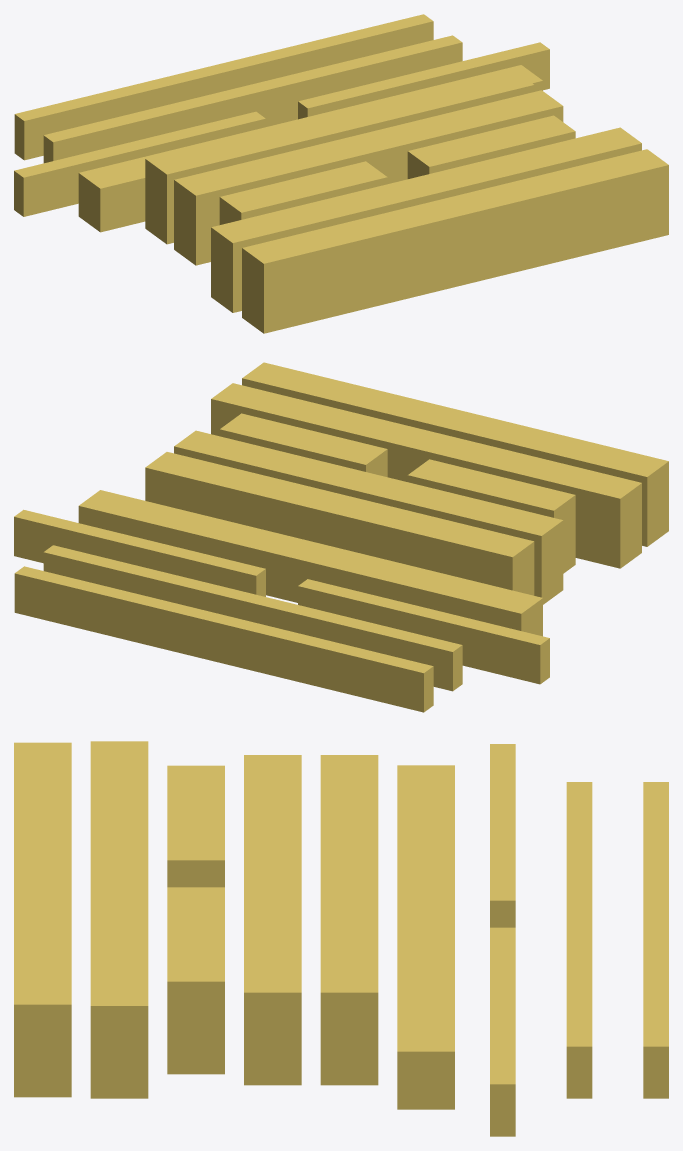
File: bed3.glb
3 renders of one model, top to bottom at view 1: azimuth 30°, elevation 25°; view 2: azimuth 150°, elevation 25°; view 3: azimuth 270°, elevation 25°, orthographic. The views are drawn at different scales.
Parts seen in each view (by area): view 1: girder2.2, girder2.3, beam1.8, beam2.8, guide1.3, guide2.3, girder1.1, girder1.2, girder2.1, pillar2.3, pillar1.3, leg2.3 (+16 smaller); view 2: board2.2, girder2.3, girder2.2, beam2.8, beam1.8, guide2.3, guide1.3, guide2.1, guide2.2, pillar1.3, pillar2.3, leg2.3 (+12 smaller); view 3: board2.2, girder2.3, girder2.2, beam2.8, beam1.8, guide1.3, guide2.3, leg2.3, leg2.4, pillar1.3, pillar2.3, girder1.3 (+26 smaller).
Part boxes in pixels (x1=…): girder2.2: x1=242, y1=149, x2=668, y2=281; girder2.3: x1=211, y1=127, x2=641, y2=260; beam1.8: x1=174, y1=90, x2=563, y2=204; beam2.8: x1=145, y1=69, x2=534, y2=182; guide1.3: x1=43, y1=35, x2=462, y2=155; guide2.3: x1=14, y1=14, x2=433, y2=134; girder1.1: x1=242, y1=217, x2=668, y2=333; girder1.2: x1=242, y1=200, x2=668, y2=316; girder2.1: x1=242, y1=182, x2=668, y2=298; pillar2.3: x1=14, y1=111, x2=265, y2=190; pillar1.3: x1=298, y1=42, x2=549, y2=117; leg2.3: x1=219, y1=161, x2=387, y2=222; board2.2: x1=78, y1=490, x2=542, y2=622; girder2.3: x1=211, y1=383, x2=641, y2=516; girder2.2: x1=242, y1=362, x2=668, y2=494; beam2.8: x1=145, y1=452, x2=534, y2=565; beam1.8: x1=174, y1=430, x2=563, y2=544; guide2.3: x1=14, y1=566, x2=433, y2=686; guide1.3: x1=43, y1=545, x2=462, y2=664; guide2.1: x1=14, y1=600, x2=433, y2=712; guide2.2: x1=14, y1=586, x2=433, y2=699; pillar1.3: x1=14, y1=509, x2=265, y2=588; pillar2.3: x1=298, y1=579, x2=549, y2=657; leg2.3: x1=407, y1=459, x2=575, y2=520; board2.2: x1=397, y1=765, x2=454, y2=1063; girder2.3: x1=90, y1=741, x2=148, y2=1029; girder2.2: x1=14, y1=742, x2=71, y2=1027; beam2.8: x1=320, y1=755, x2=378, y2=1004; beam1.8: x1=244, y1=755, x2=301, y2=1004; guide1.3: x1=566, y1=782, x2=592, y2=1063; guide2.3: x1=643, y1=782, x2=668, y2=1063; leg2.3: x1=167, y1=765, x2=224, y2=883; leg2.4: x1=167, y1=887, x2=224, y2=1004; pillar1.3: x1=490, y1=927, x2=515, y2=1101; pillar2.3: x1=490, y1=744, x2=515, y2=918; girder1.3: x1=90, y1=1052, x2=148, y2=1075.
Bounding box in the file's own units: 1.26 × 0.16 × 1.03.
